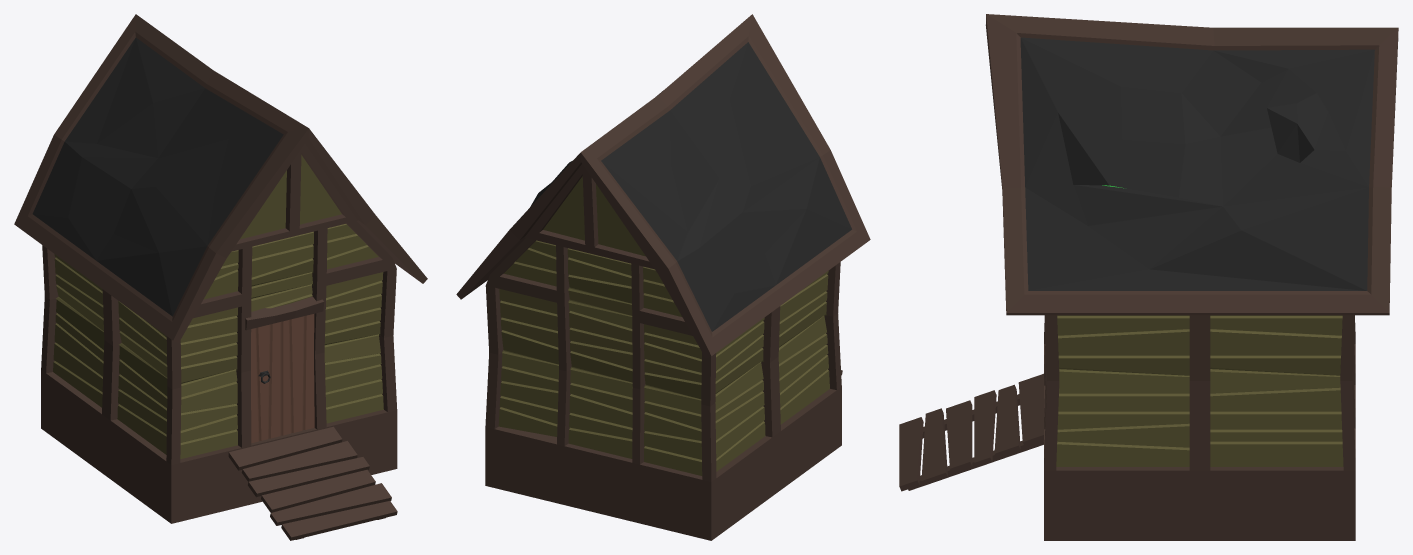
Rendered from LPHorror_Cabin.fbx.
The picture shows the model from 3 angles, left to right: view 1: azimuth 30°, elevation 25°; view 2: azimuth 150°, elevation 25°; view 3: azimuth 270°, elevation 25°; orthographic projection. The views are drawn at different scales.
Visible parts, largest first — view 1: Cabin; view 2: Cabin; view 3: Cabin.
Part boxes in pixels (bbox=[...]): Cabin: bbox=[14, 14, 427, 540]; Cabin: bbox=[456, 14, 870, 540]; Cabin: bbox=[899, 14, 1398, 540].
Bounding box in the file's own units: 450 × 653 × 640.
